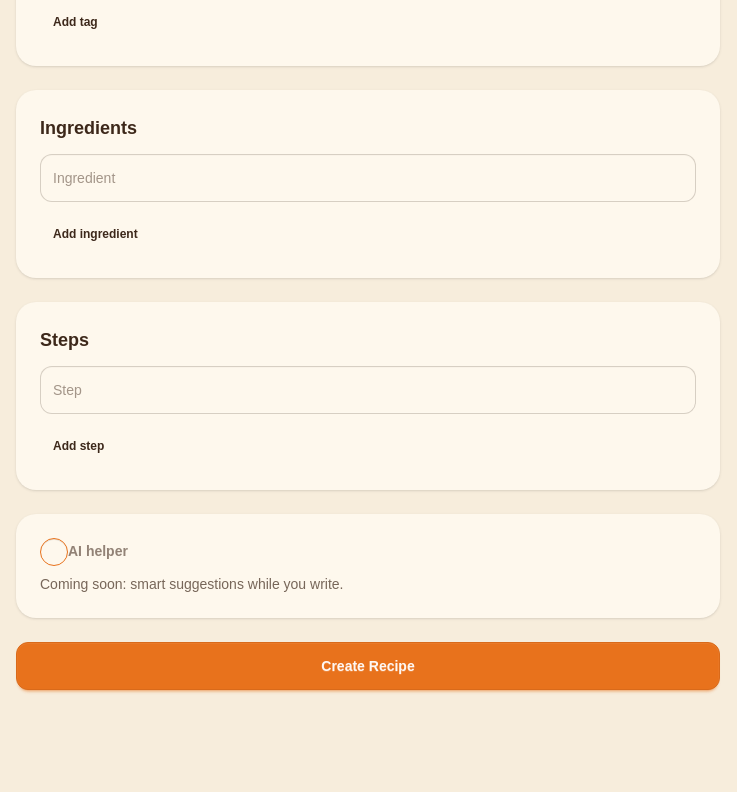
Test: CreateRecipeForm › shows the English required-title error from the dictionary, not a hardcoded Spanish string
(page scrolled)
Click the button "Create Recipe": (368, 666) [16,642,720,690]
(page scrolled)
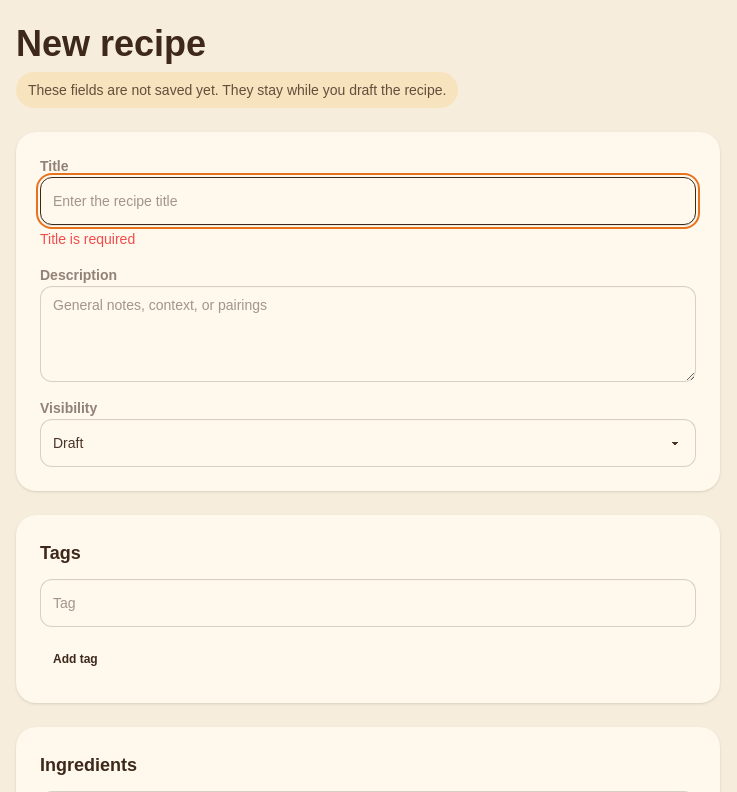
Expected: the message does not show "El título es obligatorio", [40,231,135,247]
Expected: the message reads "Title is required", [40,231,135,247]
